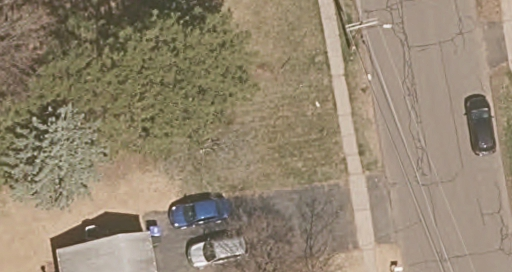DT: (345, 16, 378, 50)
